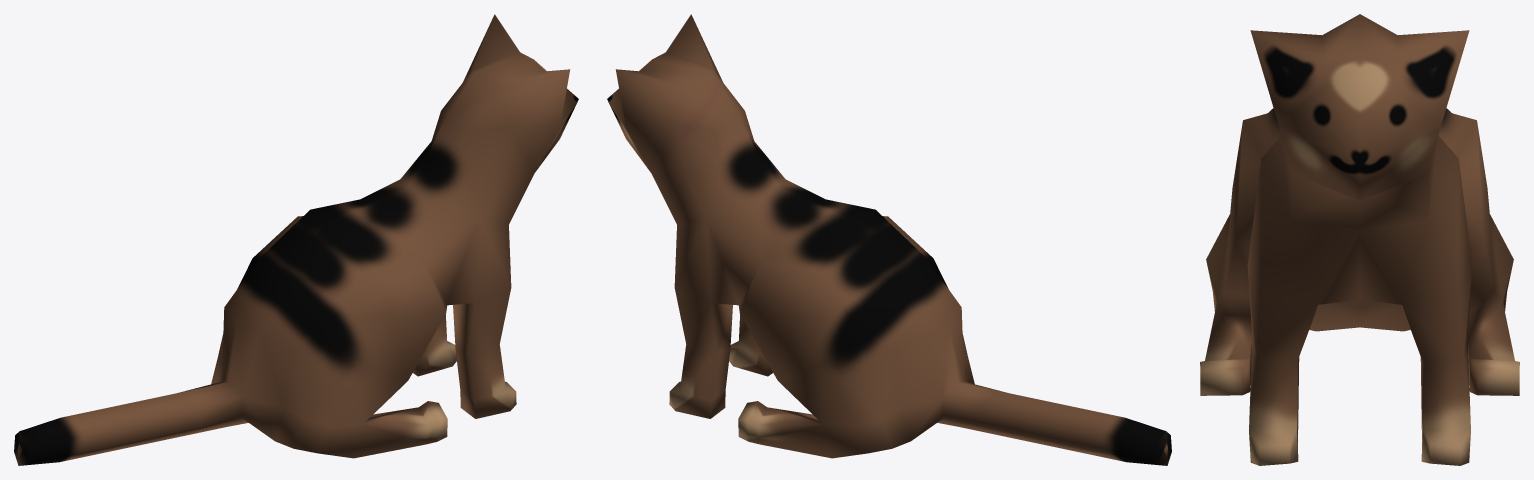
Rendered from cat.fbx.
3 renders of one model, left to right at view 1: azimuth 30°, elevation 25°; view 2: azimuth 150°, elevation 25°; view 3: azimuth 270°, elevation 25°, orthographic. The views are drawn at different scales.
Visible parts, largest first — view 1: Cube; view 2: Cube; view 3: Cube.
Part boxes in pixels (bbox=[...]): Cube: bbox=[14, 14, 578, 465]; Cube: bbox=[607, 14, 1171, 465]; Cube: bbox=[1200, 14, 1519, 465].
Bounding box in the file's own units: 10.75 × 6.01 × 3.66.
Materials: 1 (1 with a texture image).
